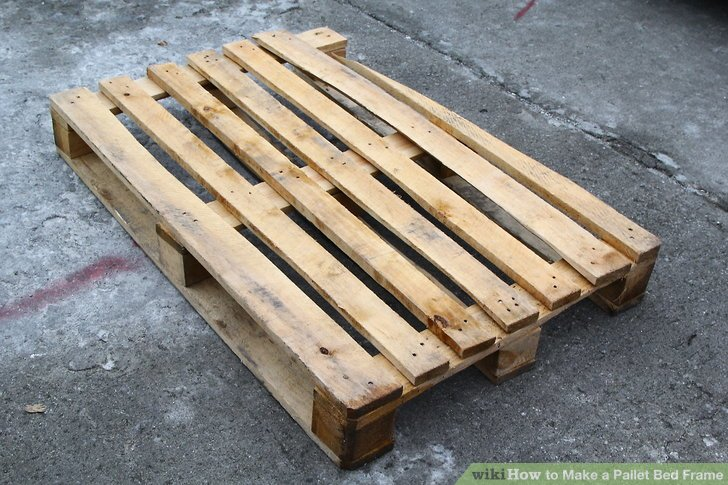pallet: (28, 26, 699, 469)
